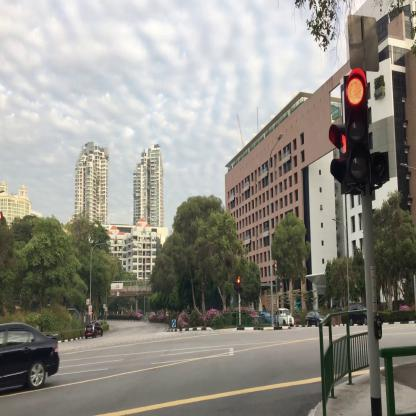red_traffic_light: (345, 76, 371, 189), (237, 278, 240, 291)
